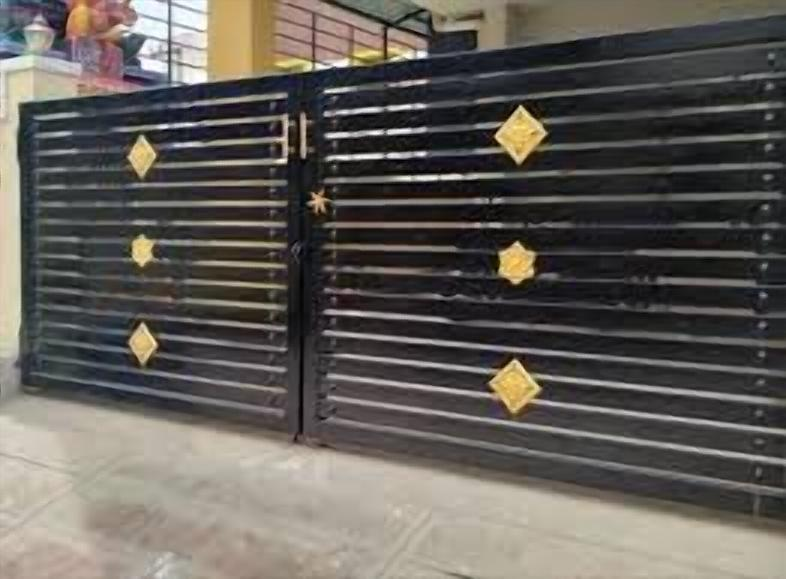Gate: (16, 15, 786, 521)
